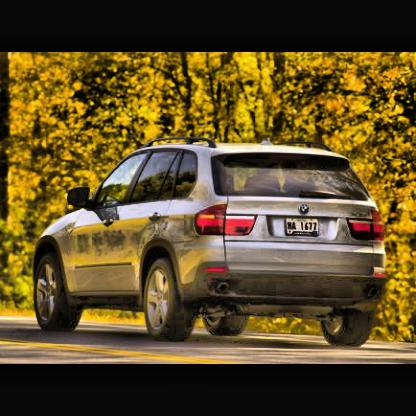BMW X5 SUV 2007: (34, 140, 388, 348)
